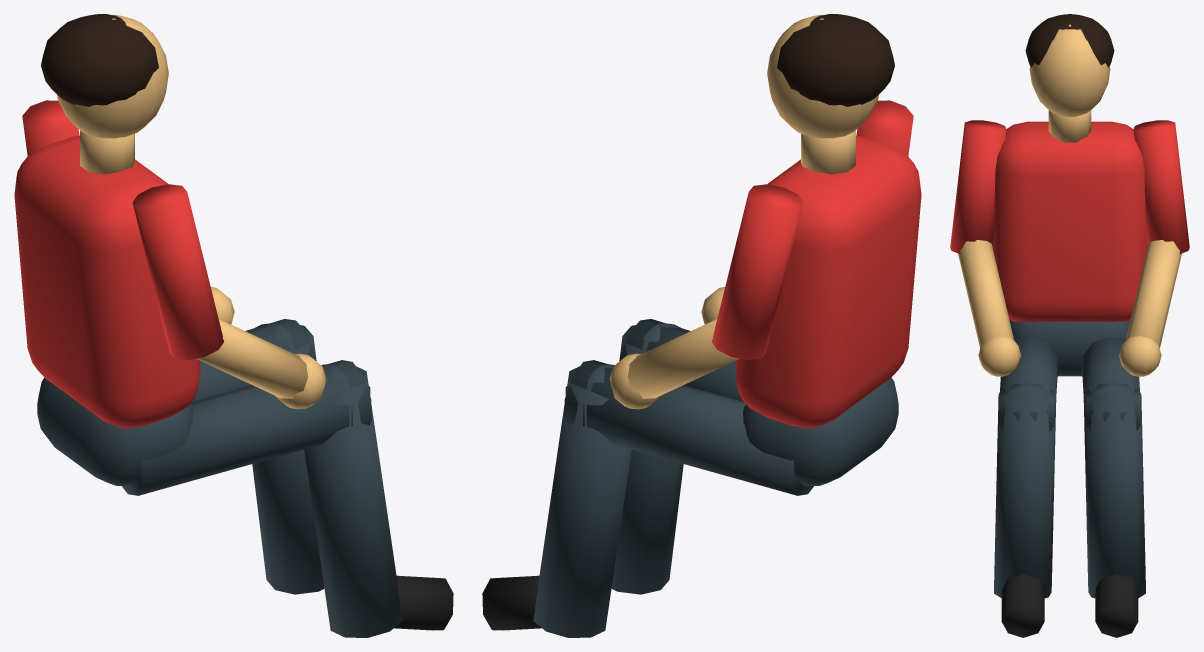
Rendered from SpectatorC.glb.
The picture shows the model from 3 angles, left to right: view 1: azimuth 30°, elevation 25°; view 2: azimuth 150°, elevation 25°; view 3: azimuth 270°, elevation 25°; orthographic projection. The views are drawn at different scales.
Parts seen in each view (by area): view 1: SpectatorC; view 2: SpectatorC; view 3: SpectatorC.
Part boxes in pixels (x1=…): SpectatorC: x1=14, y1=14, x2=453, y2=637; SpectatorC: x1=482, y1=14, x2=921, y2=637; SpectatorC: x1=950, y1=14, x2=1189, y2=637.
Bounding box in the file's own units: 0.8318 × 1.43 × 0.6142.
